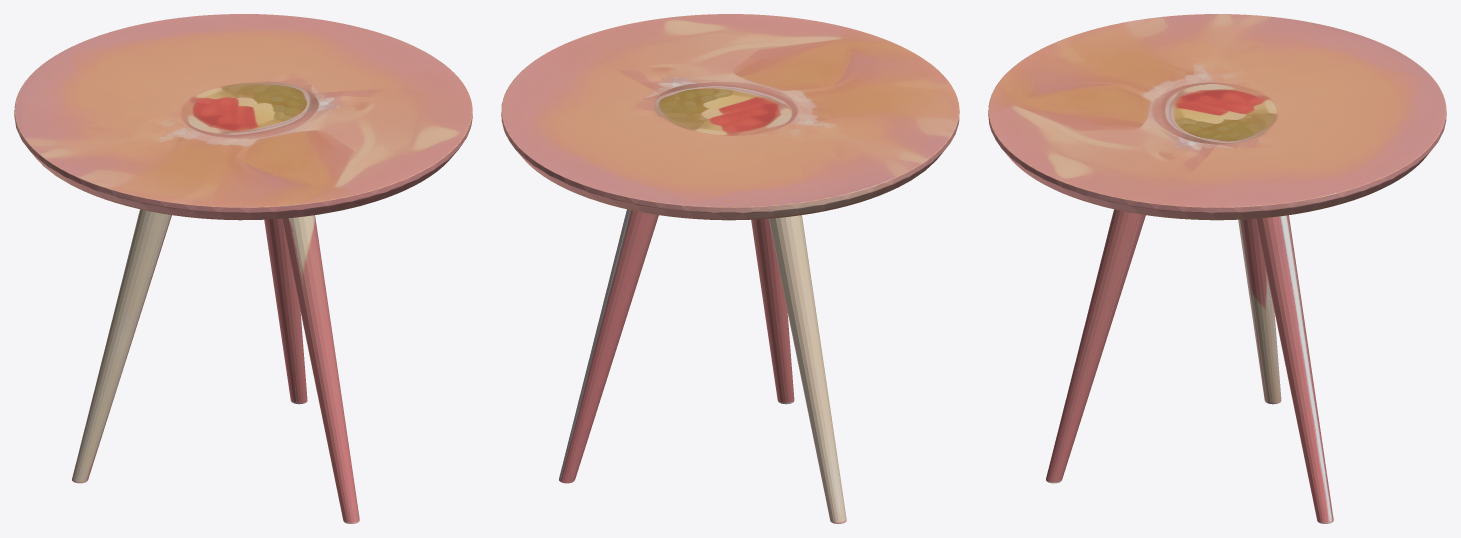
File: edited_mesh.glb
The picture shows the model from 3 angles, left to right: view 1: azimuth 30°, elevation 25°; view 2: azimuth 150°, elevation 25°; view 3: azimuth 270°, elevation 25°; orthographic projection.
Visible parts, largest first — view 1: normalized_model.obj; view 2: normalized_model.obj; view 3: normalized_model.obj.
Part boxes in pixels (<box>): normalized_model.obj: <box>14,14,472,523</box>; normalized_model.obj: <box>501,14,959,523</box>; normalized_model.obj: <box>988,14,1446,523</box>.
Bounding box in the file's own units: 1.47 × 1.26 × 1.47.
Materials: 1 (1 with a texture image).
